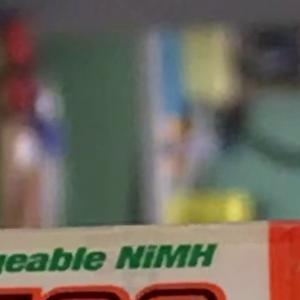NIMH: (105, 234, 227, 279)
